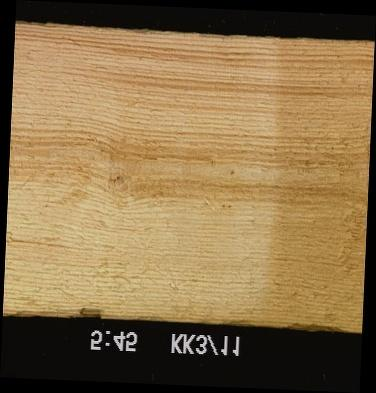wave: (2, 310, 103, 319)
